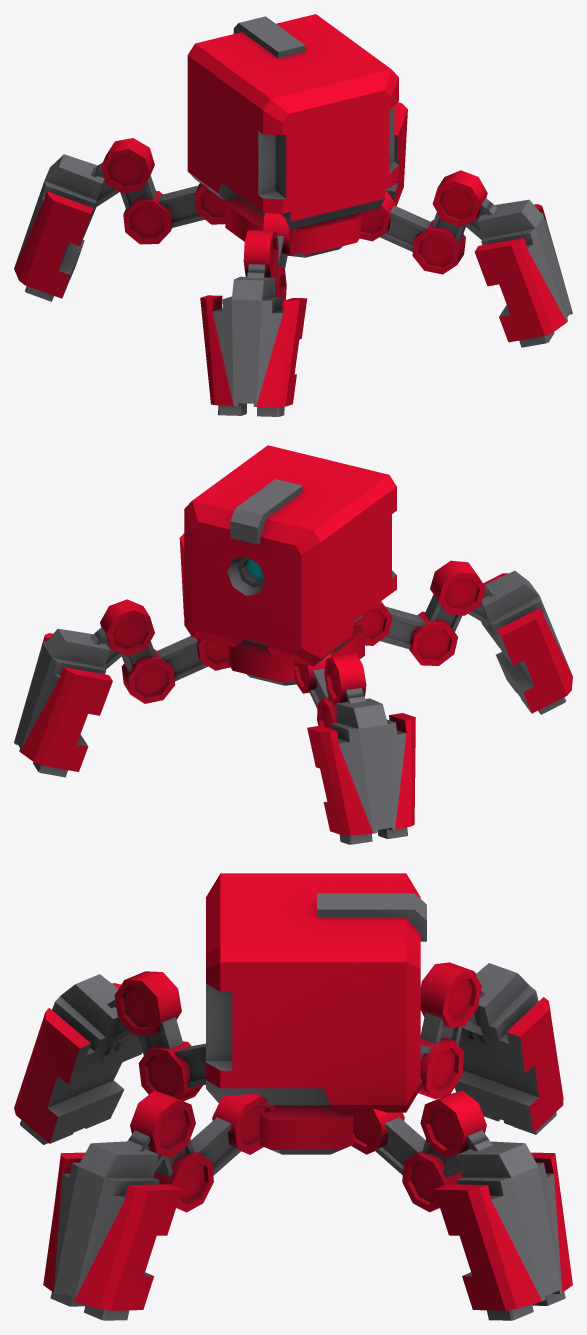
The model's file is Monster1_Attack6.obj.
3 views of the same model, one above another, from view 1: azimuth 30°, elevation 25°; view 2: azimuth 150°, elevation 25°; view 3: azimuth 270°, elevation 25° (orthographic). The views are drawn at different scales.
Parts seen in each view (by area): view 1: Box006, Object021, Object017, Object025, Object028, Object020, Object027, Object019, Object018, Object026, Object024, Object013 (+1 smaller); view 2: Box006, Object025, Object013, Object021, Object016, Object024, Object023, Object015, Object014, Object022, Object028, Object026 (+1 smaller); view 3: Box006, Object013, Object017, Object021, Object025, Object018, Object024, Object016, Object020, Object028, Object023, Object014 (+4 smaller).
Part boxes in pixels (x1=…): Box006: x1=187, y1=14, x2=398, y2=257; Object021: x1=200, y1=276, x2=307, y2=416; Object017: x1=474, y1=199, x2=572, y2=347; Object025: x1=14, y1=154, x2=104, y2=301; Object028: x1=91, y1=138, x2=154, y2=208; Object020: x1=432, y1=170, x2=497, y2=239; Object027: x1=120, y1=175, x2=171, y2=244; Object019: x1=412, y1=212, x2=465, y2=274; Object018: x1=359, y1=190, x2=431, y2=251; Object026: x1=158, y1=183, x2=238, y2=227; Object024: x1=243, y1=230, x2=278, y2=278; Object013: x1=385, y1=102, x2=407, y2=205; Box006: x1=184, y1=445, x2=396, y2=685; Object025: x1=307, y1=698, x2=415, y2=844; Object013: x1=14, y1=628, x2=112, y2=777; Object021: x1=481, y1=570, x2=572, y2=714; Object016: x1=90, y1=599, x2=154, y2=669; Object024: x1=430, y1=560, x2=494, y2=626; Object023: x1=409, y1=594, x2=462, y2=665; Object015: x1=121, y1=641, x2=175, y2=703; Object014: x1=156, y1=636, x2=229, y2=681; Object022: x1=354, y1=601, x2=425, y2=649; Object028: x1=324, y1=653, x2=366, y2=705; Object026: x1=294, y1=653, x2=331, y2=708; Box006: x1=206, y1=873, x2=426, y2=1154; Object013: x1=434, y1=1141, x2=572, y2=1320; Object017: x1=43, y1=1141, x2=181, y2=1320; Object021: x1=14, y1=974, x2=142, y2=1144; Object025: x1=454, y1=963, x2=563, y2=1134; Object018: x1=191, y1=1093, x2=275, y2=1175; Object024: x1=107, y1=971, x2=181, y2=1045; Object016: x1=420, y1=1090, x2=492, y2=1169; Object020: x1=124, y1=1090, x2=195, y2=1171; Object028: x1=420, y1=962, x2=485, y2=1035; Object023: x1=138, y1=1017, x2=202, y2=1101; Object014: x1=349, y1=1108, x2=425, y2=1174.
Size of the model in its own units: 151 by 96.46 by 153.
